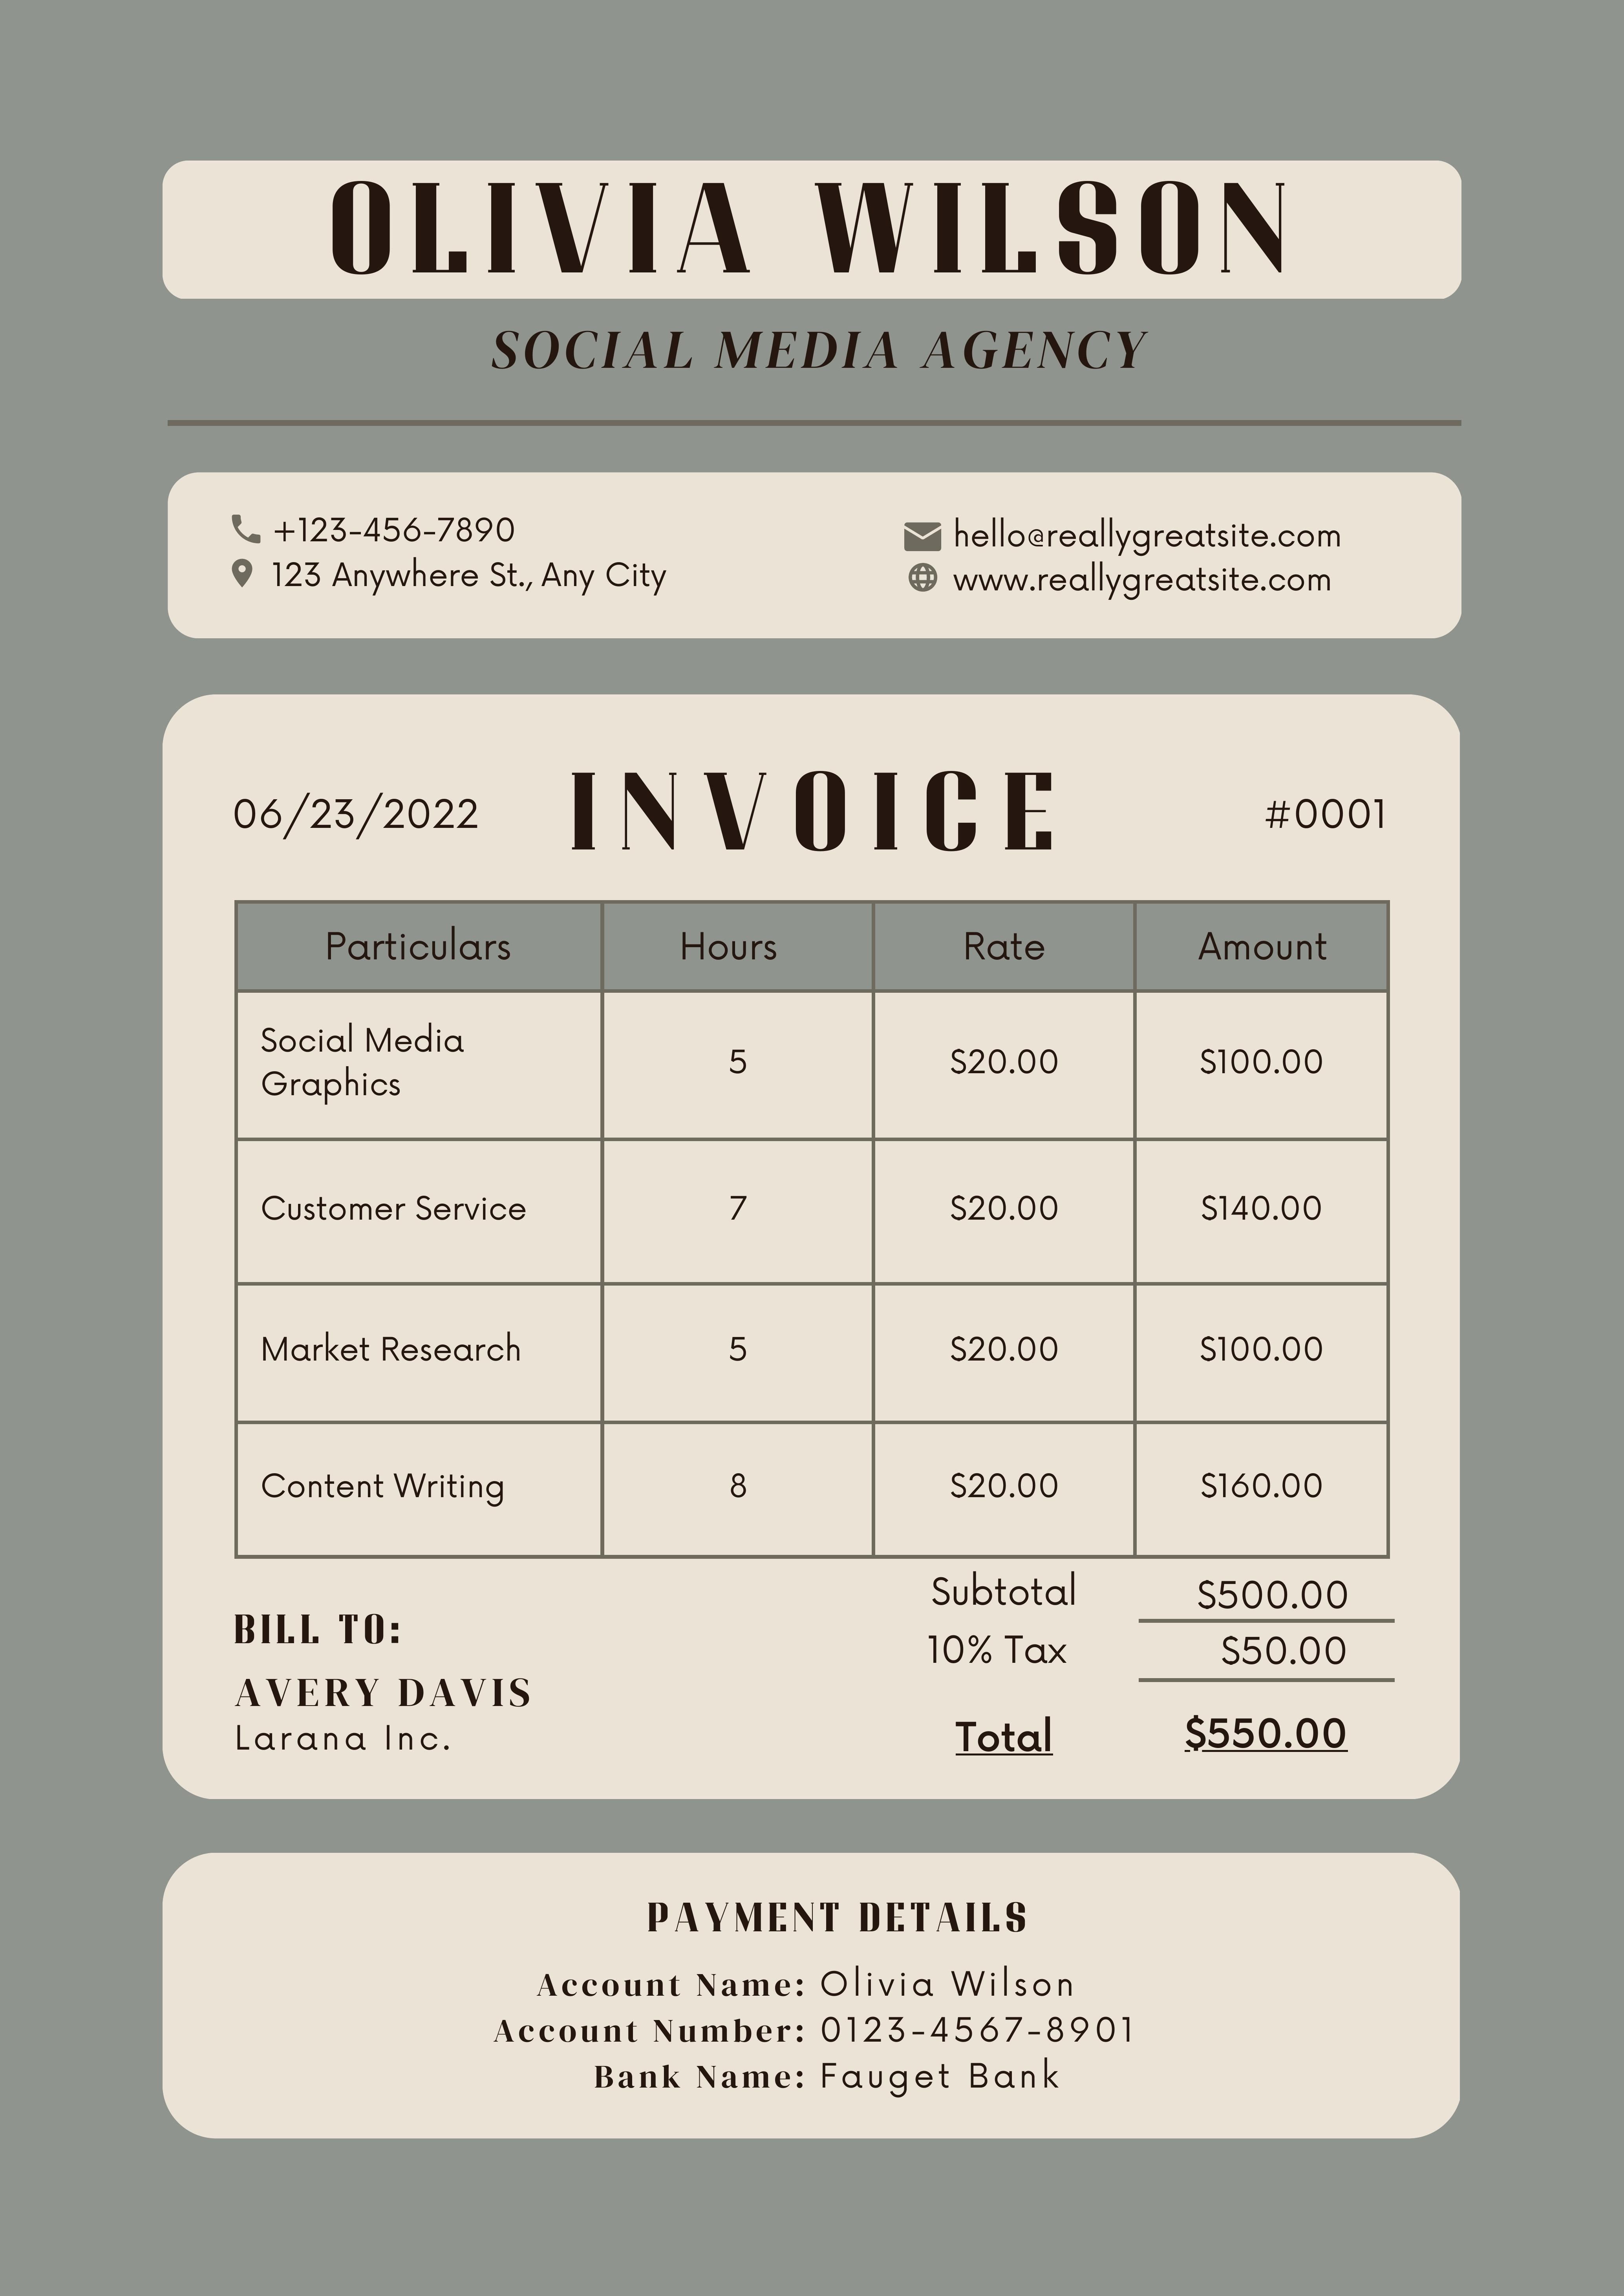ROI: (223, 917, 1408, 1579), (304, 156, 1322, 381), (206, 715, 1408, 873), (489, 1874, 1128, 2120), (907, 1565, 1380, 1781), (195, 1599, 642, 1776)
